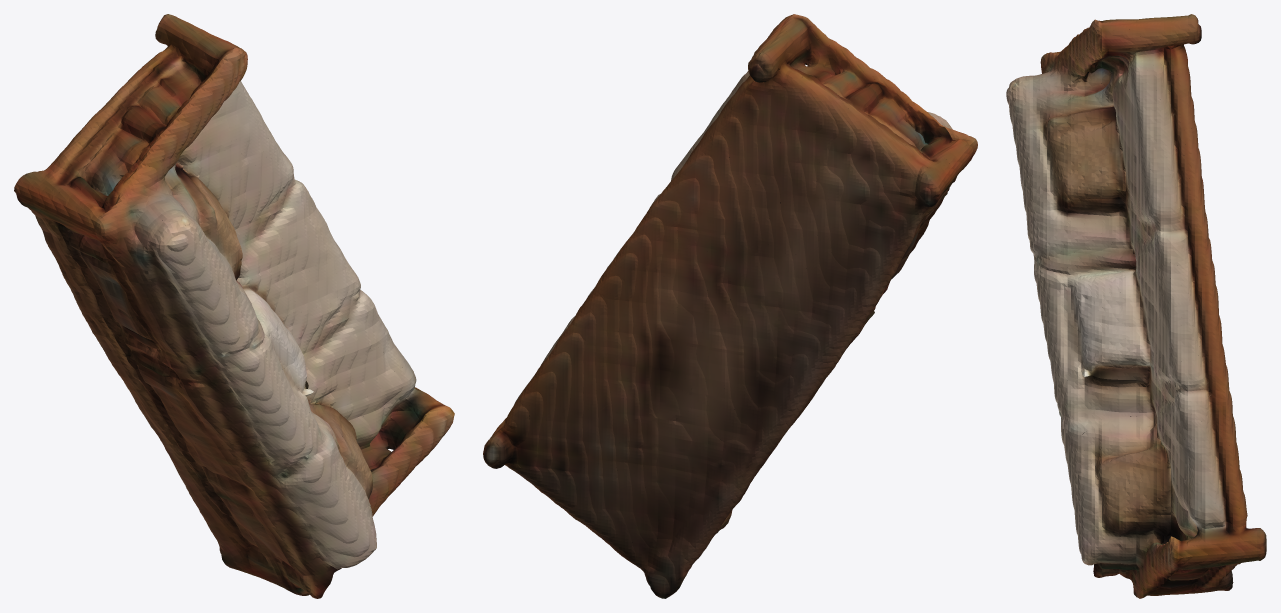
Rendered from sofaa.glb.
3 renders of one model, left to right at view 1: azimuth 30°, elevation 25°; view 2: azimuth 150°, elevation 25°; view 3: azimuth 270°, elevation 25°, orthographic. The views are drawn at different scales.
Visible parts, largest first — view 1: mesh.obj; view 2: mesh.obj; view 3: mesh.obj.
Boxes of the visible parts, x1,y1,x2,y2 form: mesh.obj: [14, 14, 454, 598]; mesh.obj: [483, 14, 977, 598]; mesh.obj: [1006, 14, 1266, 598].
Bounding box in the file's own units: 1.2 × 1.5 × 0.6607.
1 material, 1 textured.
